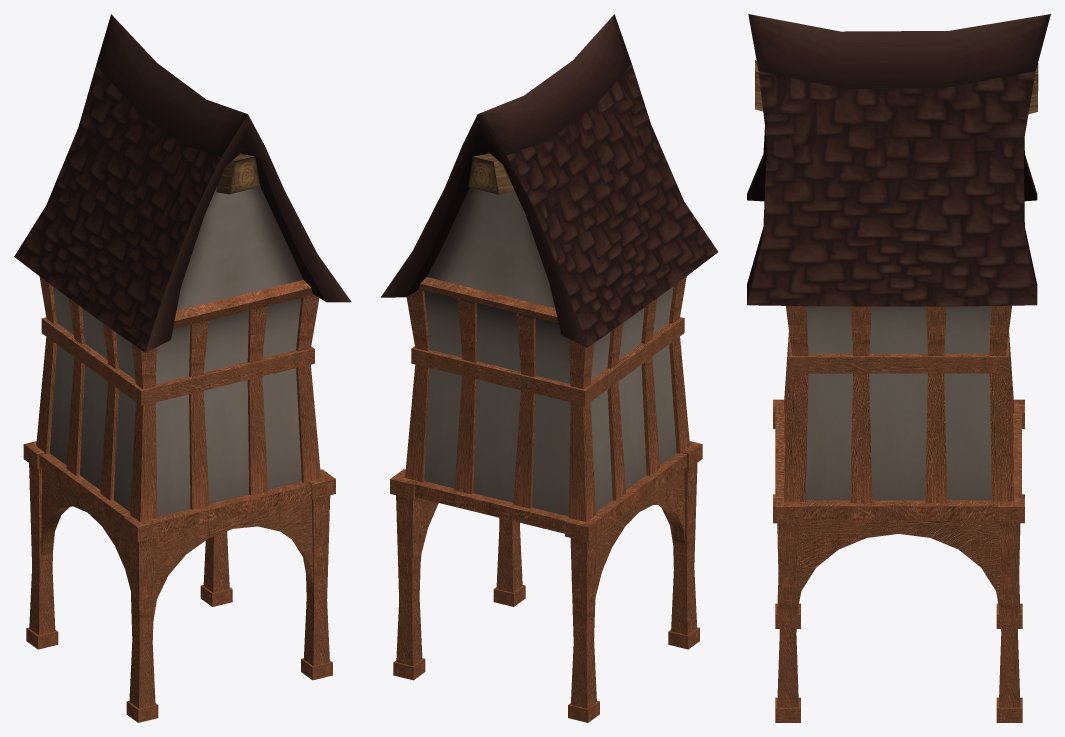
File: fanasty_mod_conjoining_piece_F.fbx
The picture shows the model from 3 angles, left to right: view 1: azimuth 30°, elevation 25°; view 2: azimuth 150°, elevation 25°; view 3: azimuth 270°, elevation 25°; orthographic projection. The views are drawn at different scales.
Parts seen in each view (by area): view 1: conjoining_piece_F; view 2: conjoining_piece_F; view 3: conjoining_piece_F.
Boxes of the visible parts, bbox=[...] form: conjoining_piece_F: bbox=[14, 14, 351, 722]; conjoining_piece_F: bbox=[380, 14, 718, 722]; conjoining_piece_F: bbox=[747, 14, 1050, 722].
Size of the model in its own units: 3.85 by 10.56 by 4.43.
